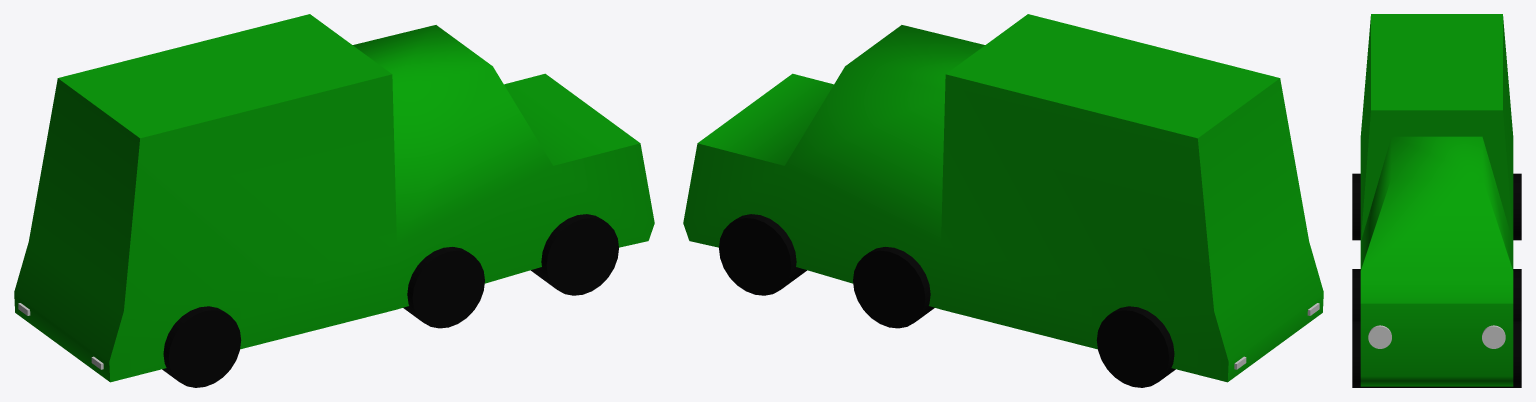
The model's file is truck.dae.
3 views of the same model, side by side, from view 1: azimuth 30°, elevation 25°; view 2: azimuth 150°, elevation 25°; view 3: azimuth 270°, elevation 25° (orthographic). The views are drawn at different scales.
Visible parts, largest first — view 1: Auto, Reifen.1, Reifen.3, Reifen.2; view 2: Auto, Reifen.1, Reifen.3, Reifen.2; view 3: Auto, Reifen.1, Reifen.2, Reifen.3, Zylinder.
Boxes of the visible parts, x1=… form: Auto: x1=14, y1=14, x2=654, y2=382; Reifen.1: x1=531, y1=214, x2=618, y2=295; Reifen.3: x1=403, y1=247, x2=484, y2=328; Reifen.2: x1=162, y1=306, x2=241, y2=387; Auto: x1=683, y1=14, x2=1323, y2=382; Reifen.1: x1=719, y1=214, x2=806, y2=295; Reifen.3: x1=853, y1=247, x2=934, y2=328; Reifen.2: x1=1096, y1=306, x2=1175, y2=387; Auto: x1=1360, y1=14, x2=1513, y2=386; Reifen.1: x1=1352, y1=321, x2=1521, y2=387; Reifen.2: x1=1352, y1=173, x2=1521, y2=240; Reifen.3: x1=1352, y1=269, x2=1521, y2=321; Zylinder: x1=1368, y1=325, x2=1505, y2=348.
Bounding box in the file's own units: 2.99 × 1.33 × 1.
